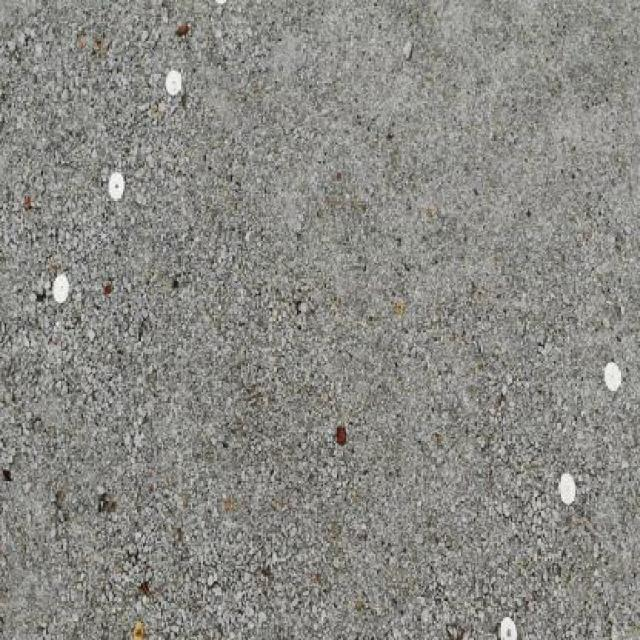Garbage: (336, 426, 345, 444)
